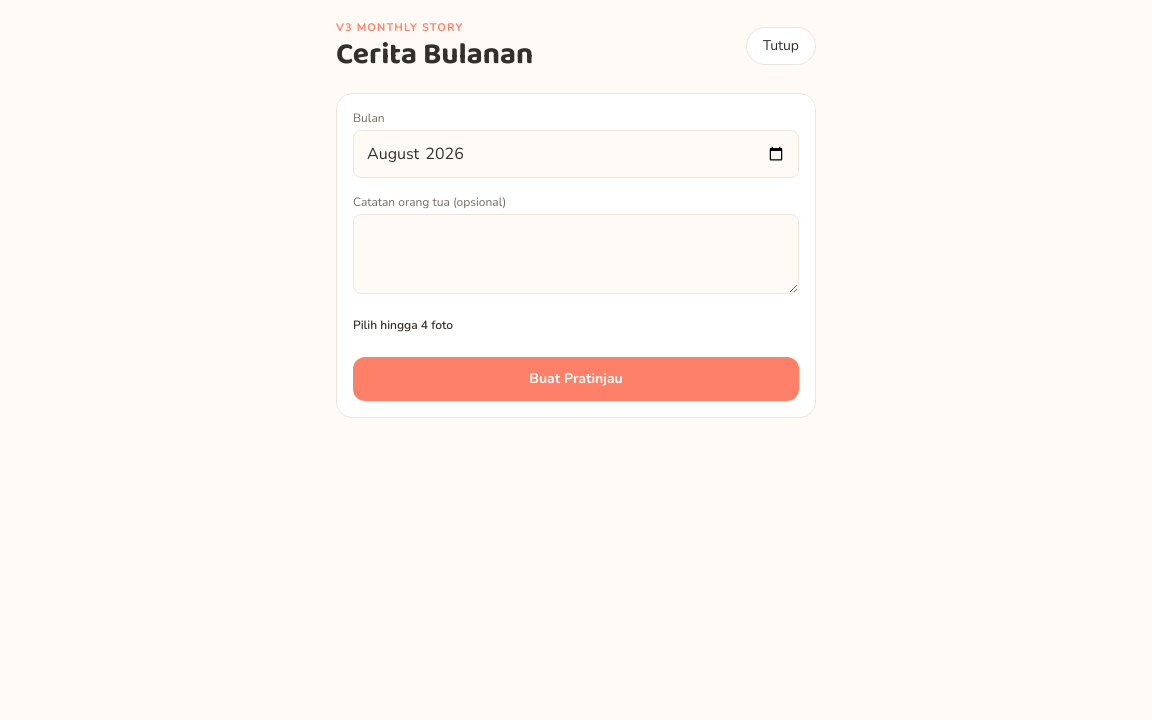
it: MonthlyStory › renders readable preview and comparison
Click the button "Buat Pratinjau": (576, 378) [353, 356, 799, 400]
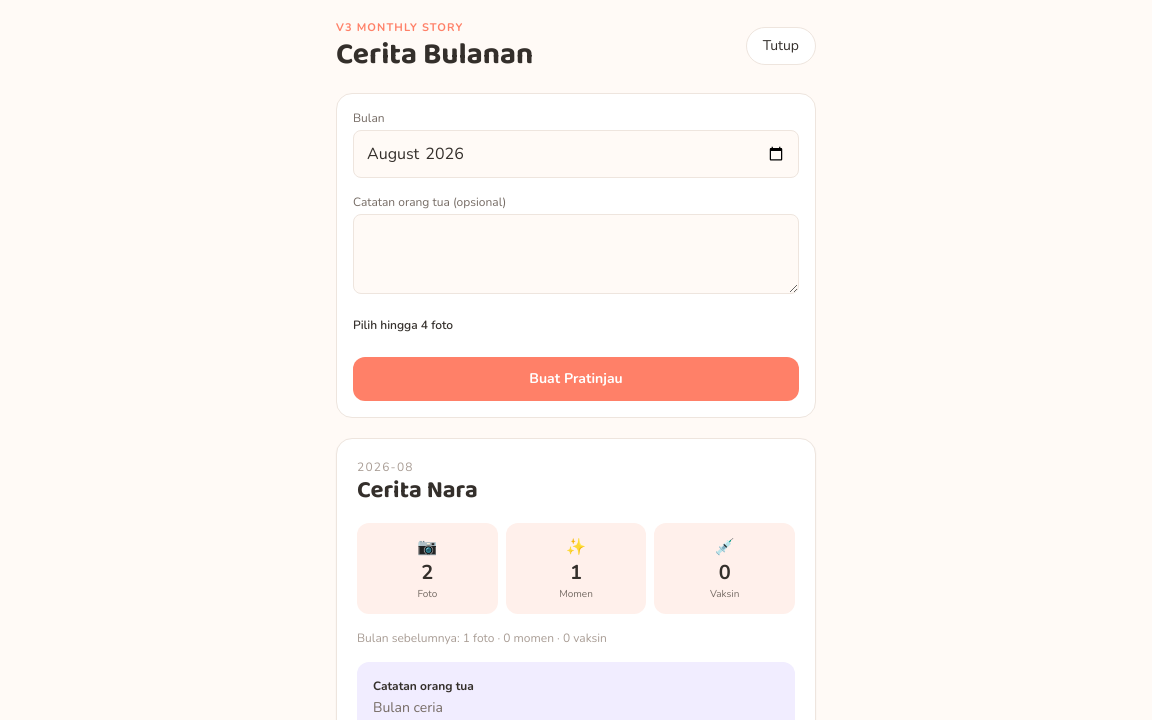
expect the heading "Cerita Nara" is shown: met, box [357, 470, 478, 510]
expect the text "Bulan sebelumnya: 1 foto · 0 momen · 0 vaksin" is shown: met, box [357, 630, 607, 646]
